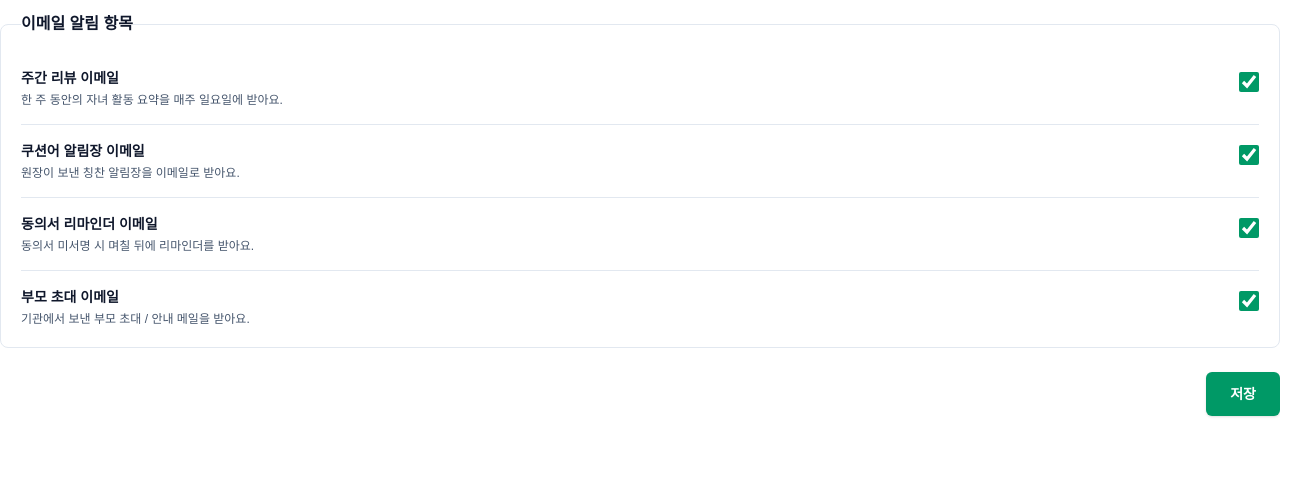
Scenario: NotificationPreferenceForm — FR-C-NOTIFICATION-PREFERENCE › [5] Server Action 실패 → 에러 메시지 노출 (success 미노출)
Click the switch with test id "notification-toggle-cushionNoteEmail" at (1249, 155), box [1239,145,1259,165]
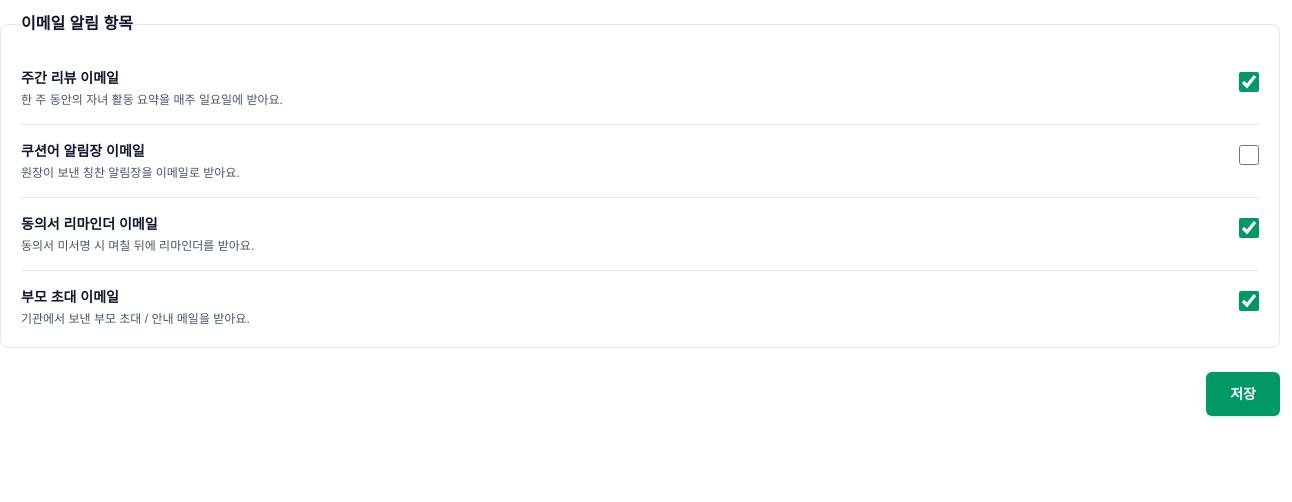
Click the button with test id "notification-preference-submit" at (1243, 394), box [1206,372,1280,416]
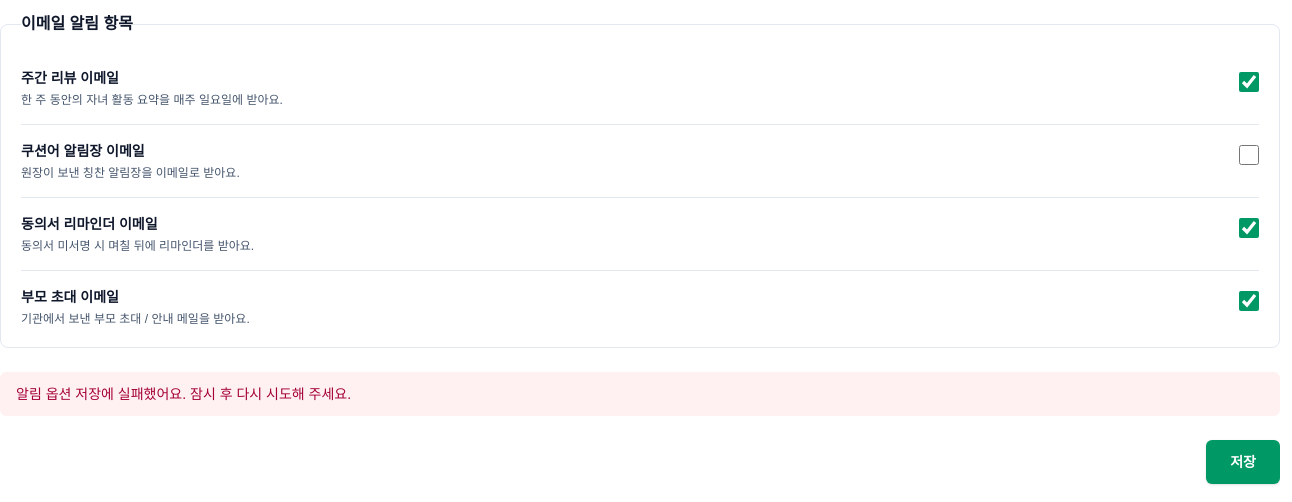
Expected: the message "알림 옵션 저장에 실패했어요. 잠시 후 다시 시도해 주세요." is shown, [0,372,1280,416]
